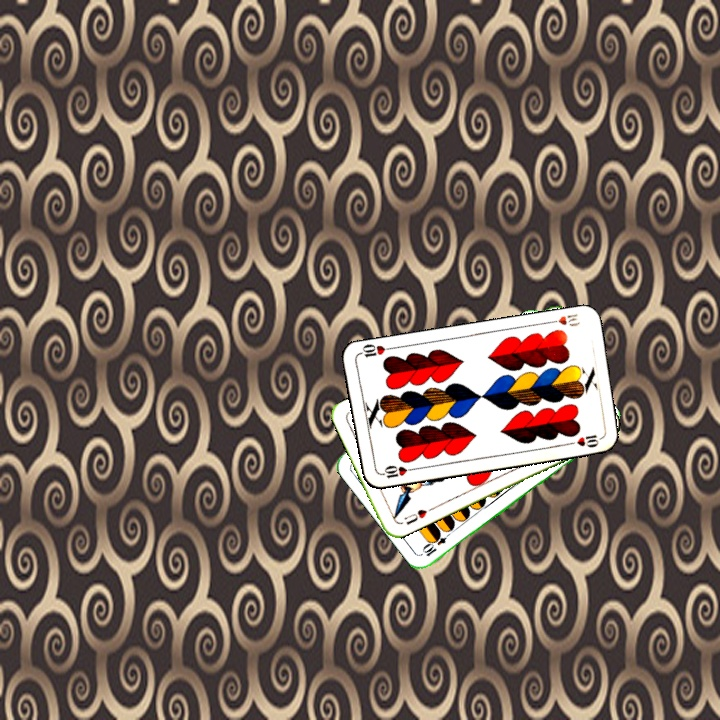E10: (419, 527, 455, 559)
H10: (376, 461, 417, 481), (543, 310, 582, 329)
HU: (400, 505, 429, 527)
